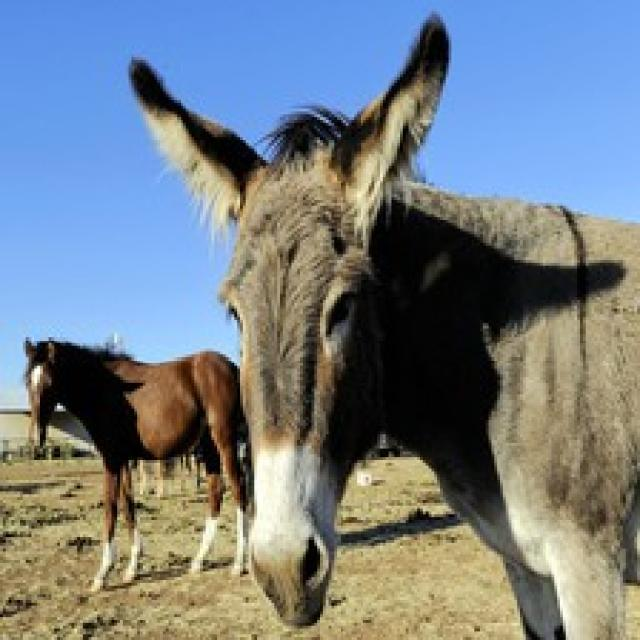Donkey: (125, 12, 638, 638), (20, 334, 249, 592)
